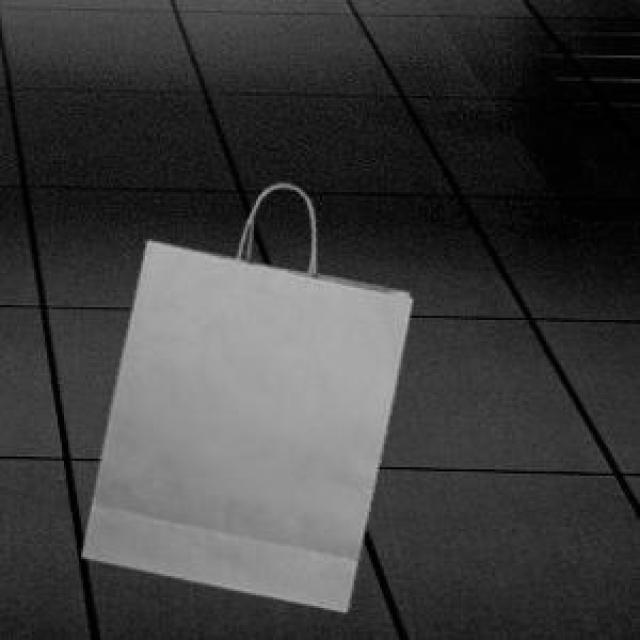paper: (79, 179, 408, 608)
